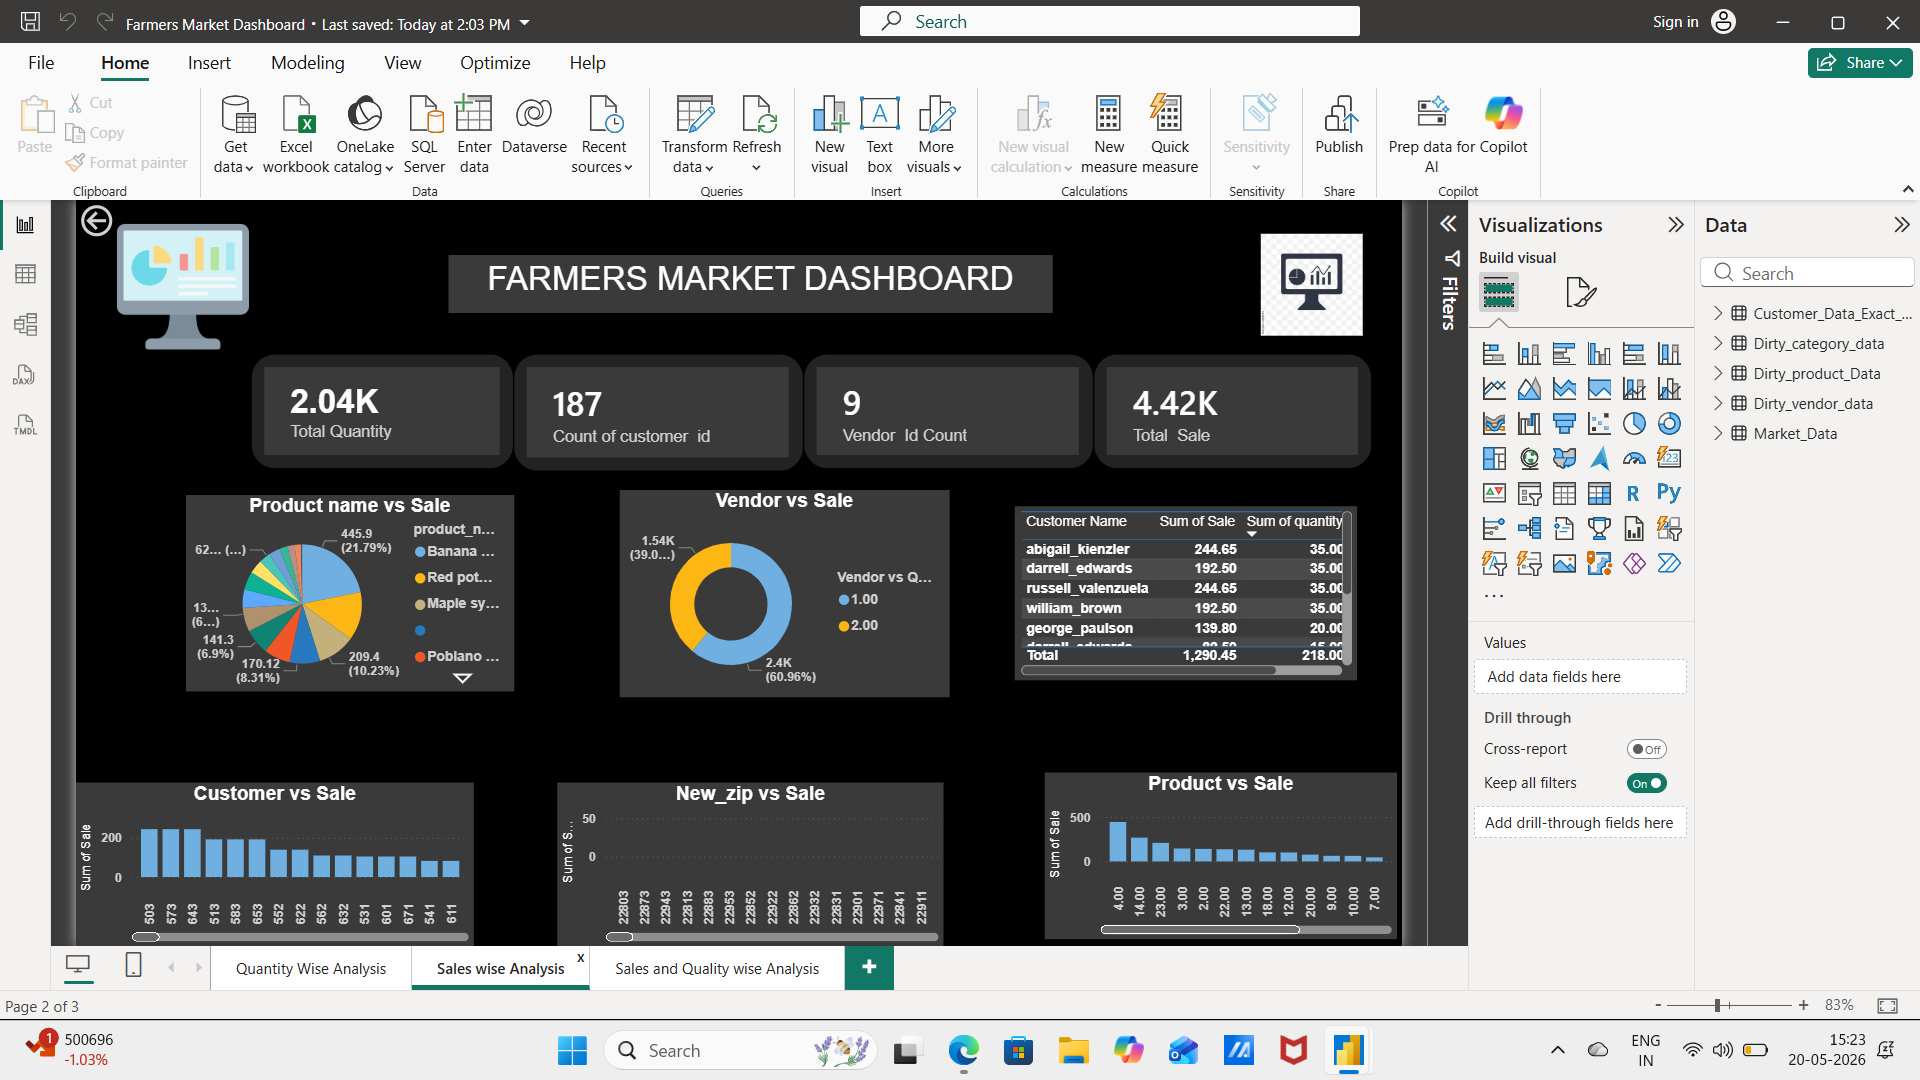

What the dashboard file says about the page in this screenshot:
{"tool":"powerbi","page":{"name":"Sales wise Analysis","canvas":[1280,720],"ordinal":1},"visuals":[{"type":"clusteredColumnChart","title":"Product vs Sale","fields":{"Category":["sagar_style_dirty_product.product_id"],"Y":["Sum(Market_Data_Final (1).Sale)"]},"box":[934.7,552,340,161.1],"z":0},{"type":"cardVisual","fields":{"Data":["Sum(Market_Data_Final (1).quantity)"]},"box":[168.8,148.2,253.9,111.1],"z":1000},{"type":"pieChart","title":"Product name vs Sale","fields":{"Category":["sagar_style_dirty_product.product_name"],"Y":["Sum(Market_Data_Final (1).Sale)"]},"box":[106,285,316.6,190],"z":2000},{"type":"donutChart","title":"Vendor vs Sale","fields":{"Y":["Sum(Market_Data_Final (1).Sale)"],"Category":["Market_Data_Final (1).vendor_id"]},"box":[524.5,279.5,318,199.6],"z":3000},{"type":"actionButton","box":[0,0,100,40],"z":4000},{"type":"textbox","box":[359.5,53.5,583.2,56.3],"z":5000},{"type":"image","box":[1104.6,32.9,175.6,98.8],"z":6000},{"type":"image","box":[0,15.1,205.8,135.8],"z":7000},{"type":"cardVisual","fields":{"Data":["CountNonNull(Market_Data_Final (1).customer_id)"]},"box":[422.6,148.2,279.9,113.9],"z":8000},{"type":"cardVisual","fields":{"Data":["CountNonNull(dirty_vendor_data.vendor_id)"]},"box":[702.6,148.2,279.9,111.1],"z":9000},{"type":"cardVisual","fields":{"Data":["Market_Data_Final (1).Total_Sale"]},"box":[982.5,148.2,269,111.1],"z":10000},{"type":"tableEx","fields":{"Values":["Customer_Data_Exact_Format.customer_full_name","Sum(Market_Data_Final (1).Sale)","Sum(Market_Data_Final (1).quantity)","Market_Data_Final (1).product_id"]},"box":[905.8,296,330.4,168],"z":11000},{"type":"columnChart","title":"Customer vs Sale","fields":{"Category":["Market_Data_Final (1).customer_id"],"Y":["Sum(Market_Data_Final (1).Sale)"]},"box":[0,561.7,384.1,158.3],"z":12000},{"type":"lineChart","title":"New_zip vs Sale","fields":{"Category":["Customer_Data_Exact_Format.New_zip"],"Y":["Sum(Market_Data_Final (1).Sale)"]},"box":[463.9,561.7,373.1,158.3],"z":13000}]}

Visuals, with their boxes on the page's 1280x720 design canvas (x1, y1, x2, y2). These are canvas units, not pixel positions in the 1920x1080 screenshot, which may show the page scaled, cropped or inside an application window:
"Product vs Sale" clusteredColumnChart: crop(935, 552, 1275, 713)
cardVisual - Sum(Market_Data_Final (1).quantity): crop(169, 148, 423, 259)
"Product name vs Sale" pieChart: crop(106, 285, 423, 475)
"Vendor vs Sale" donutChart: crop(524, 280, 842, 479)
actionButton: crop(0, 0, 100, 40)
textbox: crop(360, 54, 943, 110)
image: crop(1105, 33, 1280, 132)
image: crop(0, 15, 206, 151)
cardVisual - CountNonNull(Market_Data_Final (1).customer_id): crop(423, 148, 702, 262)
cardVisual - CountNonNull(dirty_vendor_data.vendor_id): crop(703, 148, 982, 259)
cardVisual - Market_Data_Final (1).Total_Sale: crop(982, 148, 1252, 259)
tableEx - Customer_Data_Exact_Format.customer_full_name x Sum(Market_Data_Final (1).Sale): crop(906, 296, 1236, 464)
"Customer vs Sale" columnChart: crop(0, 562, 384, 720)
"New_zip vs Sale" lineChart: crop(464, 562, 837, 720)
